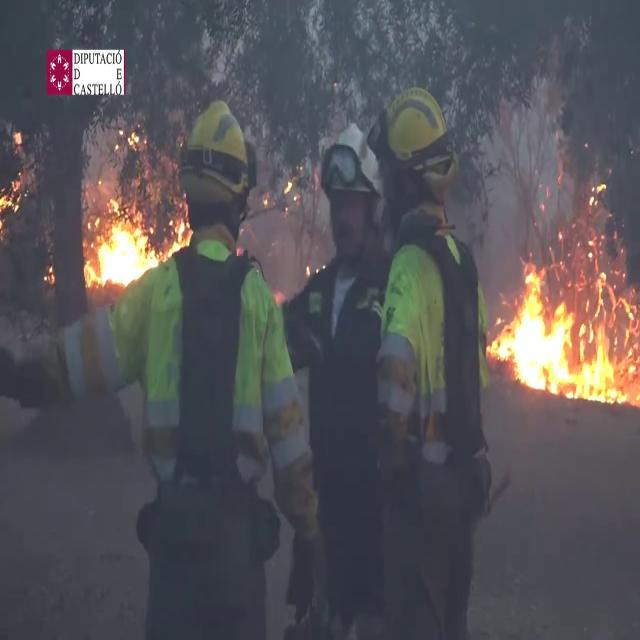Fire: (490, 255, 640, 406), (84, 198, 192, 292)
